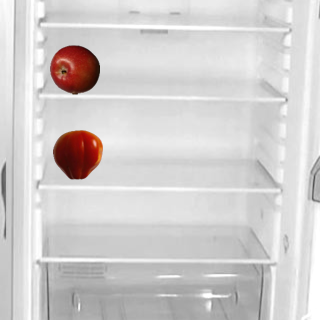Apple Braeburn: (49, 44, 99, 94)
Tomato 1: (52, 129, 102, 179)
